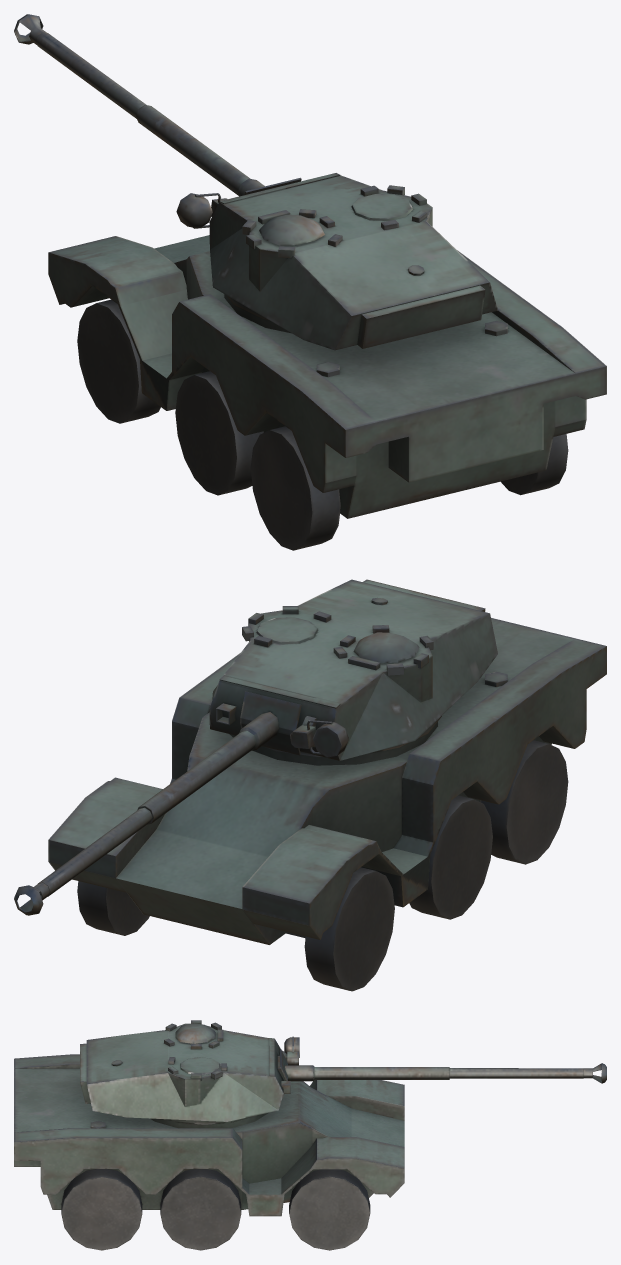
File: ERC-90.fbx
3 views of the same model, one above another, from view 1: azimuth 30°, elevation 25°; view 2: azimuth 150°, elevation 25°; view 3: azimuth 270°, elevation 25° (orthographic). The views are drawn at different scales.
Parts seen in each view (by area): view 1: ERC-90 Hull, ERC-90 Turret; view 2: ERC-90 Hull, ERC-90 Turret; view 3: ERC-90 Hull, ERC-90 Turret.
Boxes of the visible parts, x1,y1,x2,y2 form: ERC-90 Hull: (48,235,606,550); ERC-90 Turret: (14,14,497,350); ERC-90 Hull: (48,618,606,991); ERC-90 Turret: (14,579,497,915); ERC-90 Hull: (14,1054,404,1250); ERC-90 Turret: (80,1020,606,1128).
Bounding box in the file's own units: 2.59 × 2.4 × 7.74.
